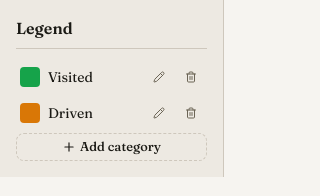
Test: LegendPanel › restores the normal state after cancelling an edit
This screenshot has width=320, height=196.
What coordinates should you click on to do the following:
click the button named "edit visited"
I would click on:
 (159, 77)
Its box is x1=147 y1=65 x2=171 y2=89.
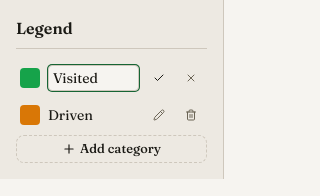
What coordinates should you click on to do the following:
click the button named "cancel edit"
I would click on:
 (191, 78)
Its box is x1=179 y1=66 x2=203 y2=90.
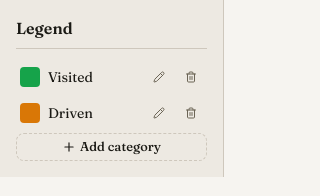
Now the field is gone
Now the text "Visited" is shown, box x1=48 y1=68 x2=93 y2=86
